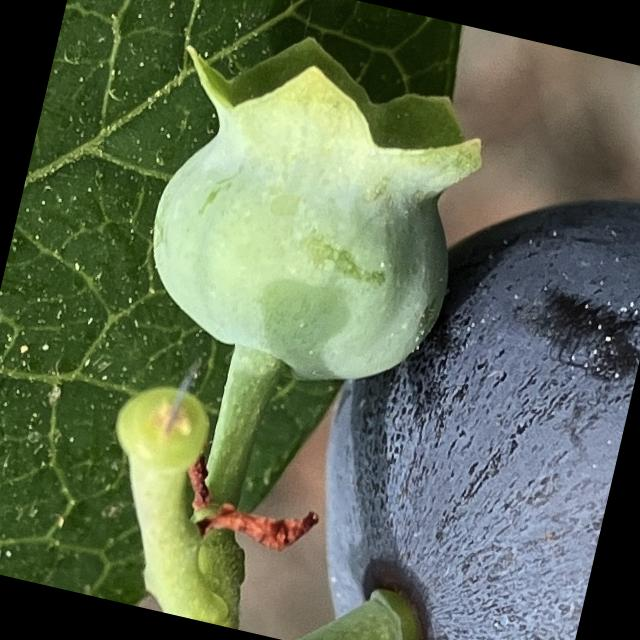Blueberries: (272, 139, 640, 640)
